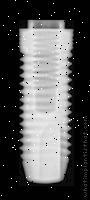Euroteknika: (19, 20, 74, 186)
